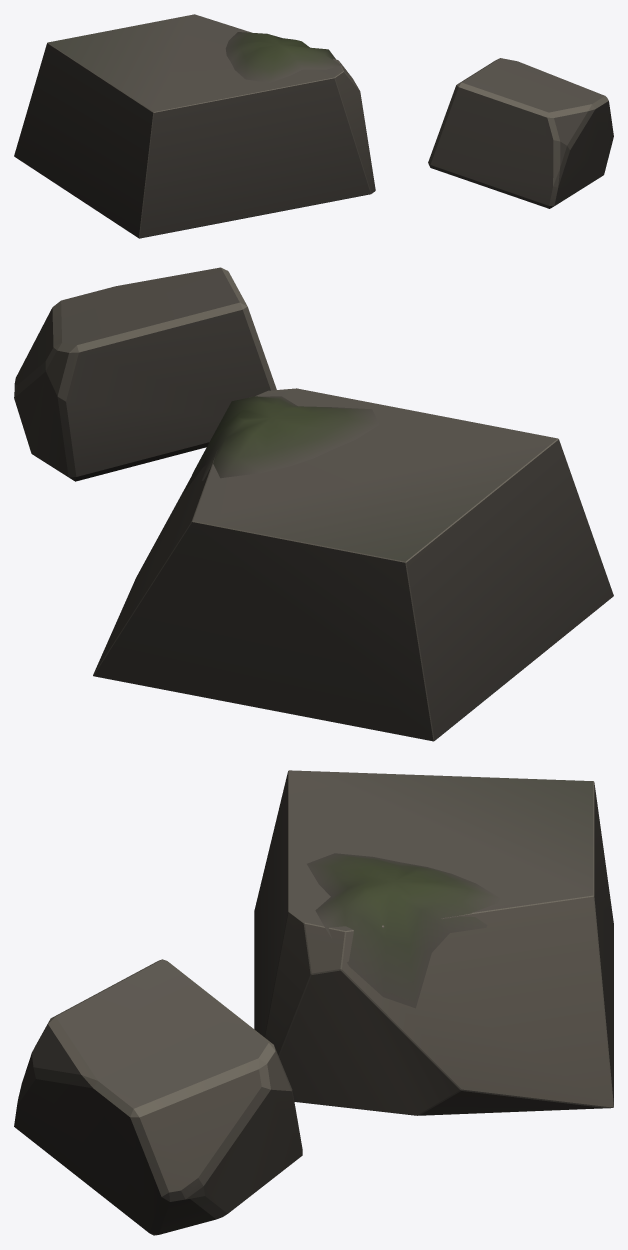
The model's file is boulder_pair.glb.
3 renders of one model, top to bottom at view 1: azimuth 30°, elevation 25°; view 2: azimuth 150°, elevation 25°; view 3: azimuth 270°, elevation 25°, orthographic. The views are drawn at different scales.
Visible parts, largest first — view 1: boulder_pair; view 2: boulder_pair; view 3: boulder_pair.
Boxes of the visible parts, box(x1,y1,x2,y2) form: boulder_pair: box(14, 14, 613, 238); boulder_pair: box(14, 267, 613, 741); boulder_pair: box(14, 770, 613, 1235).
Bounding box in the file's own units: 1.11 × 0.3213 × 0.8992.
